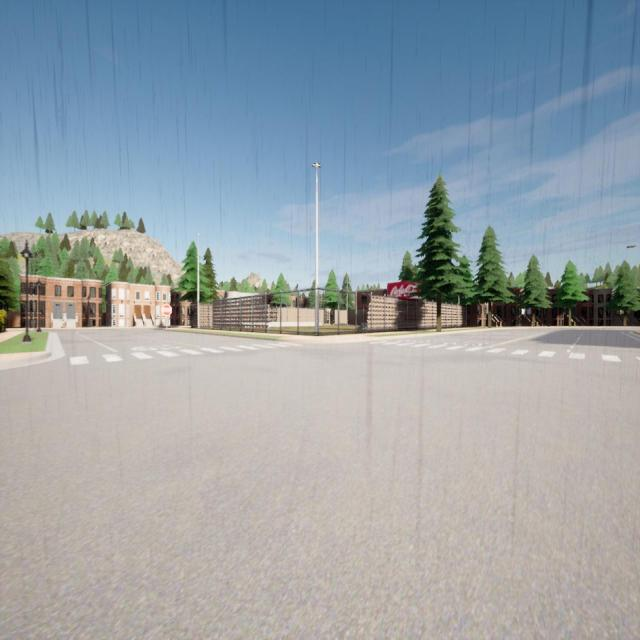Traffic_Signs: (162, 304, 172, 315)
